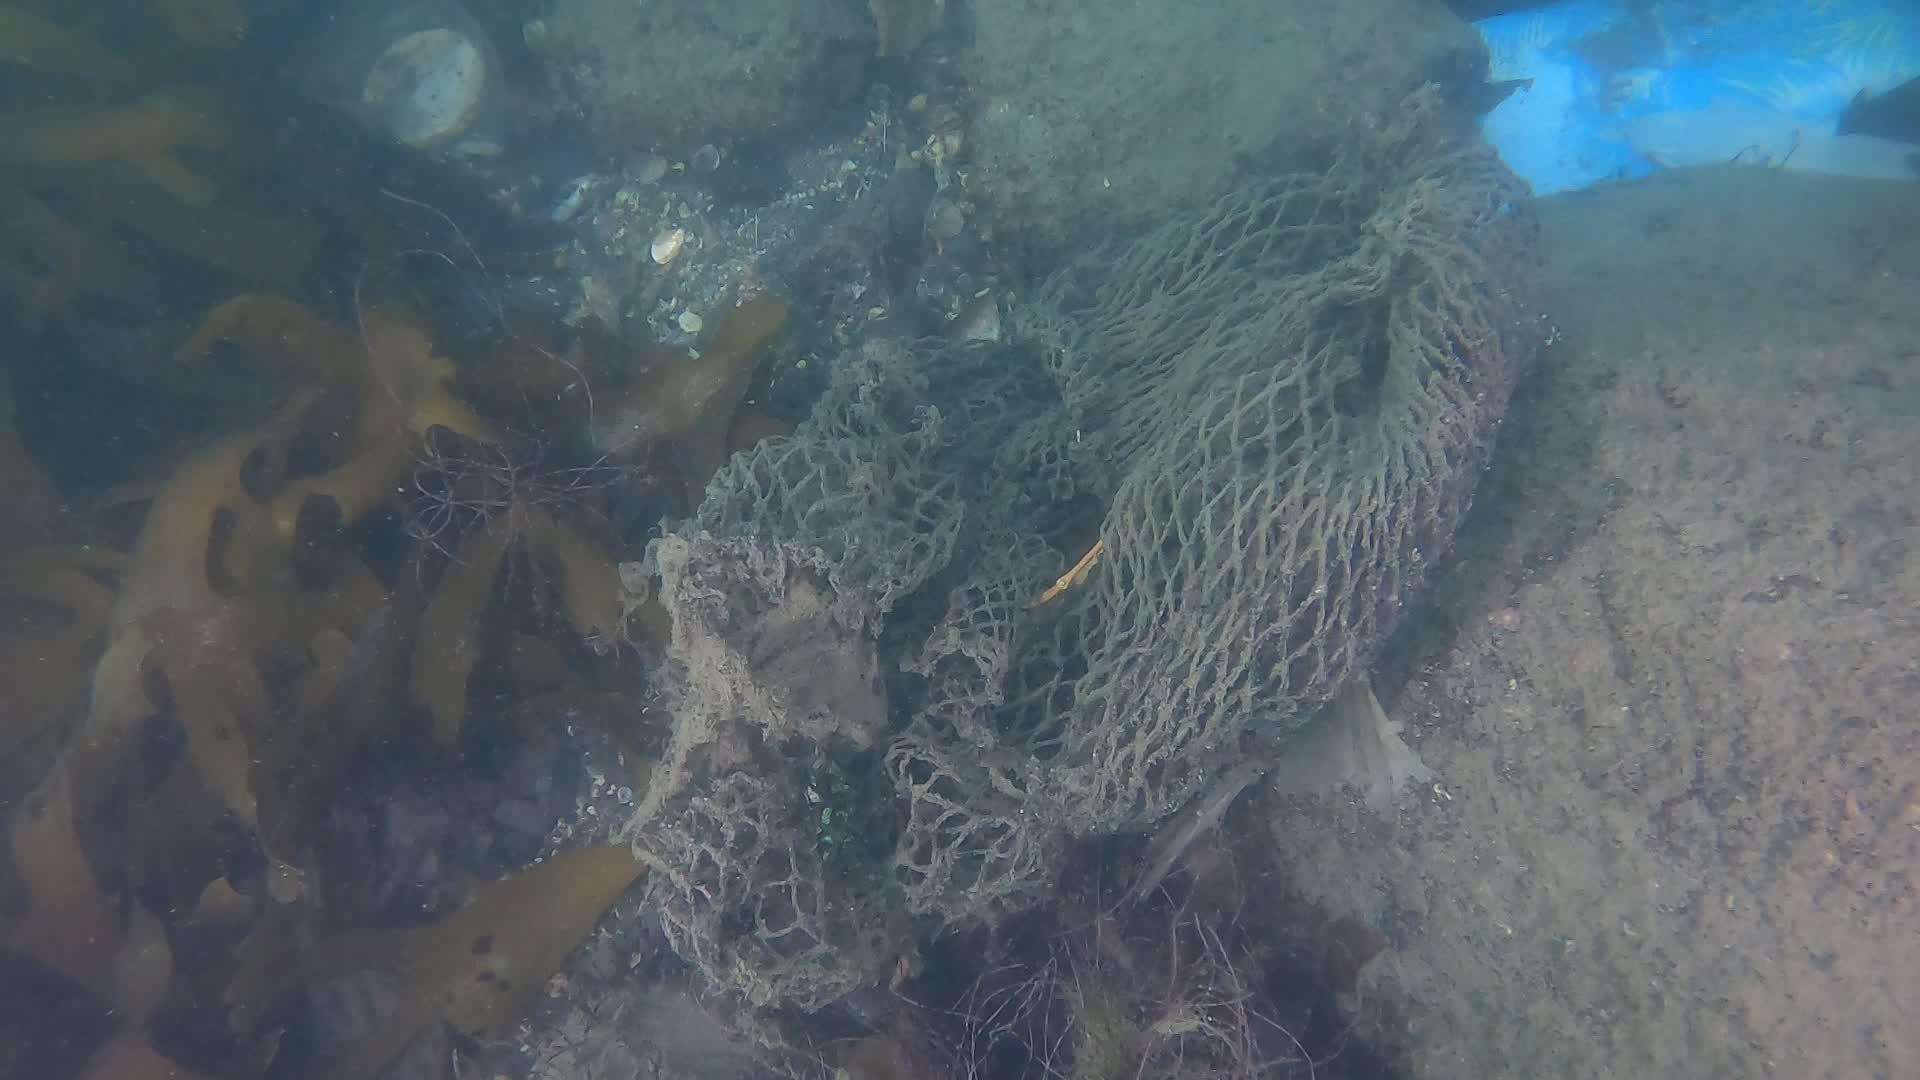fish net: (615, 131, 1542, 1005)
